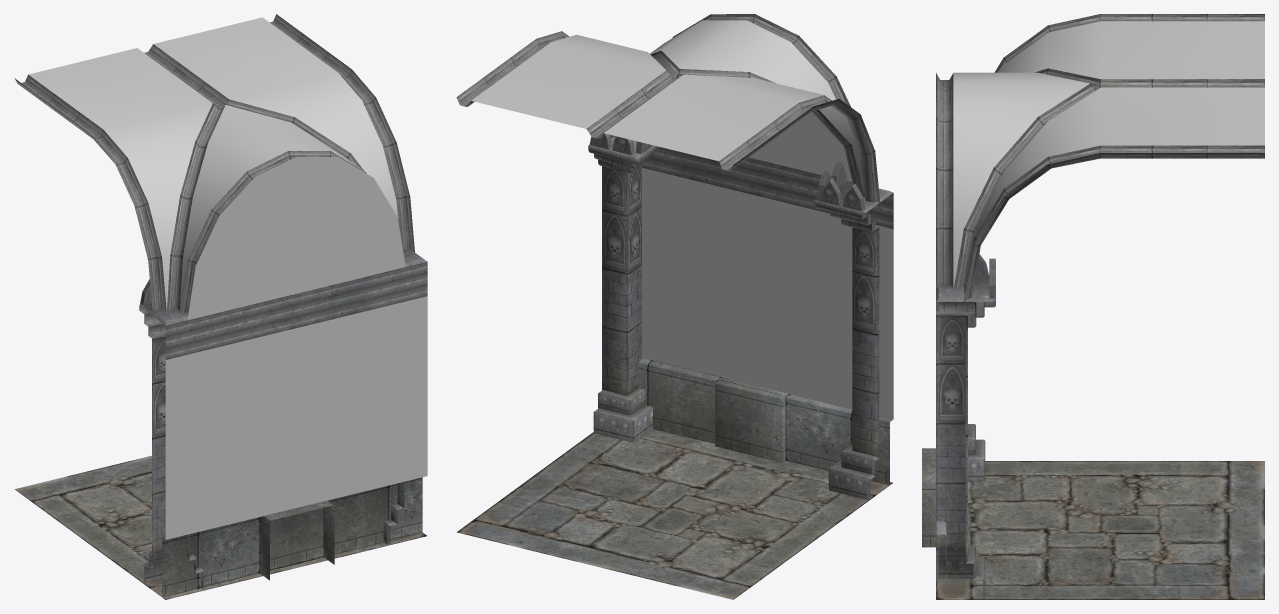
The model's file is Wall_1.FBX.
The picture shows the model from 3 angles, left to right: view 1: azimuth 30°, elevation 25°; view 2: azimuth 150°, elevation 25°; view 3: azimuth 270°, elevation 25°; orthographic projection. The views are drawn at different scales.
Visible parts, largest first — view 1: Wall_1; view 2: Wall_1; view 3: Wall_1.
Boxes of the visible parts, x1,y1,x2,y2 form: Wall_1: (14, 14, 427, 599); Wall_1: (456, 14, 893, 599); Wall_1: (922, 14, 1264, 599).
Size of the model in its own units: 500 by 750 by 521.
